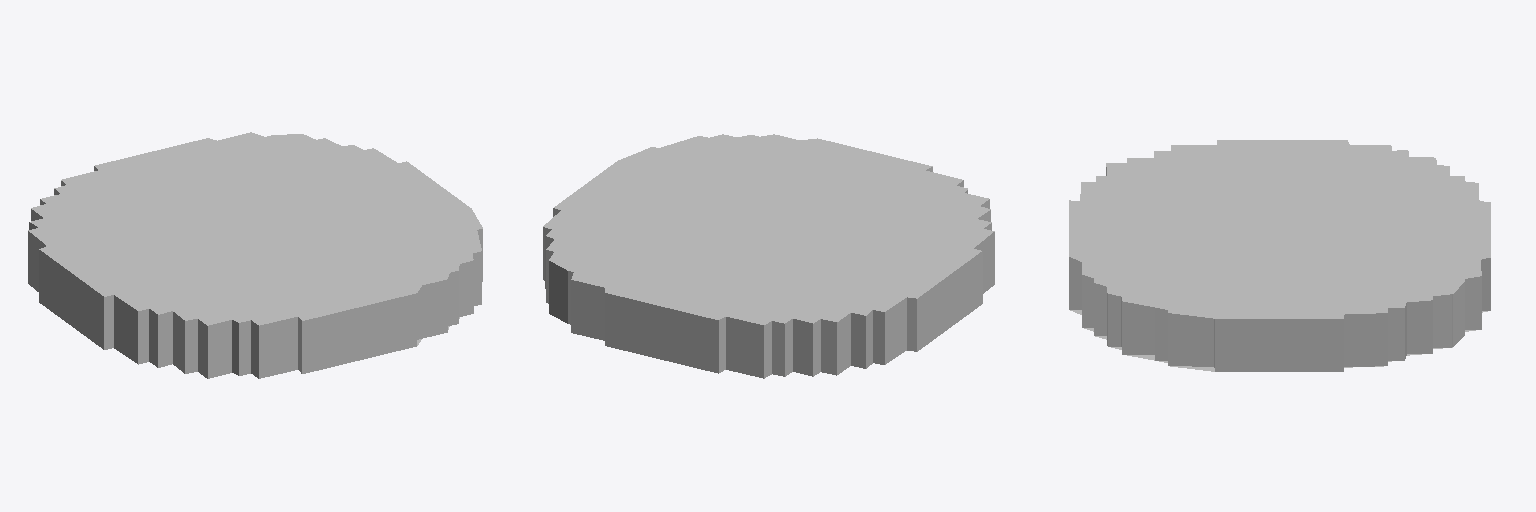
File: wheel.obj
3 views of the same model, side by side, from view 1: azimuth 30°, elevation 25°; view 2: azimuth 150°, elevation 25°; view 3: azimuth 270°, elevation 25° (orthographic).
Visible parts, largest first — view 1: wheel; view 2: wheel; view 3: wheel.
Boxes of the visible parts, x1,y1,x2,y2 form: wheel: [28, 132, 482, 378]; wheel: [543, 134, 994, 378]; wheel: [1069, 140, 1490, 371].
Bounding box in the file's own units: 1 × 0.139 × 1.